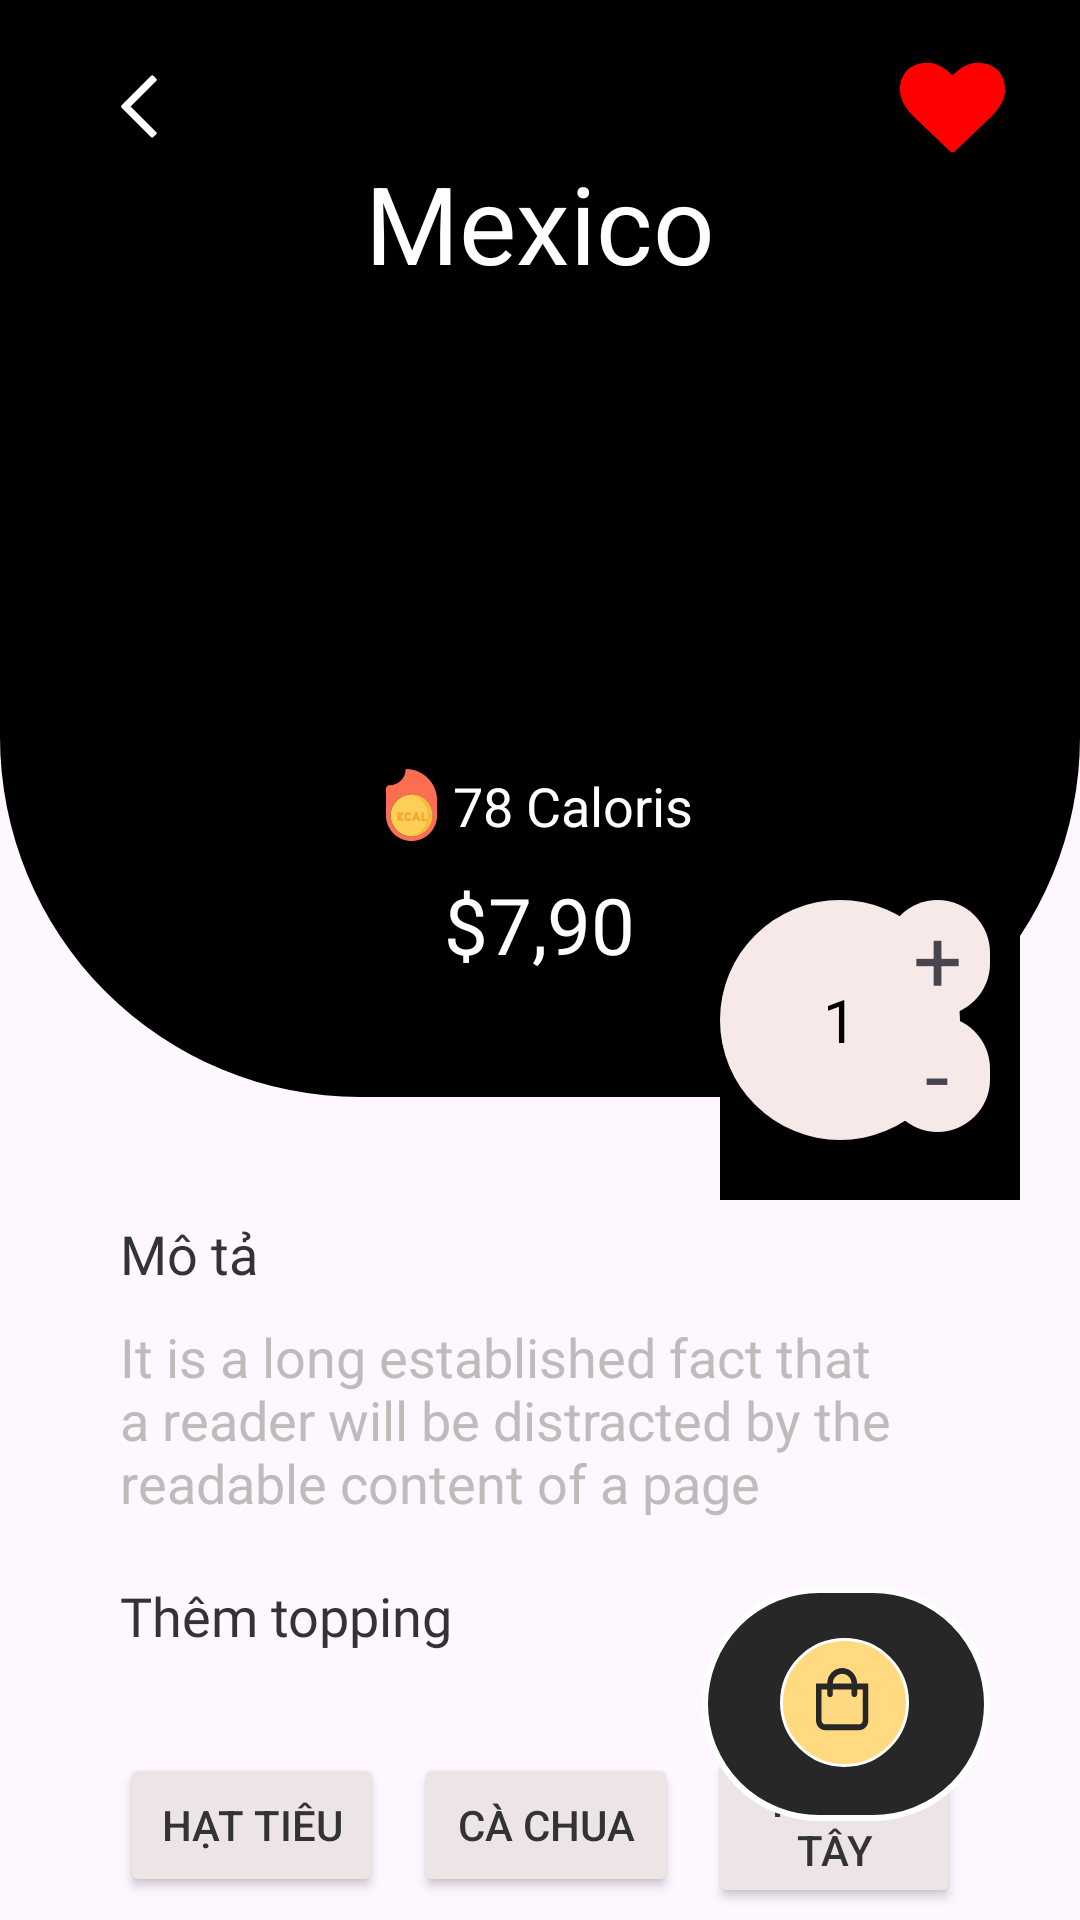

Named icons in this screenshot (1080w x 1920h) and their bounding boxes, (x1, y1, x2, y2):
backwhite: (121, 75, 157, 138)
loved: (900, 62, 1005, 153)
shoping: (708, 1593, 984, 1815)
